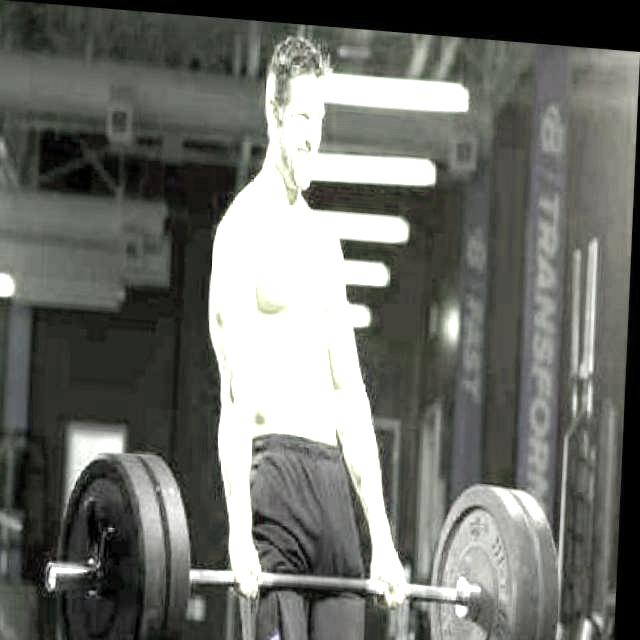barbell: (48, 440, 161, 640)
